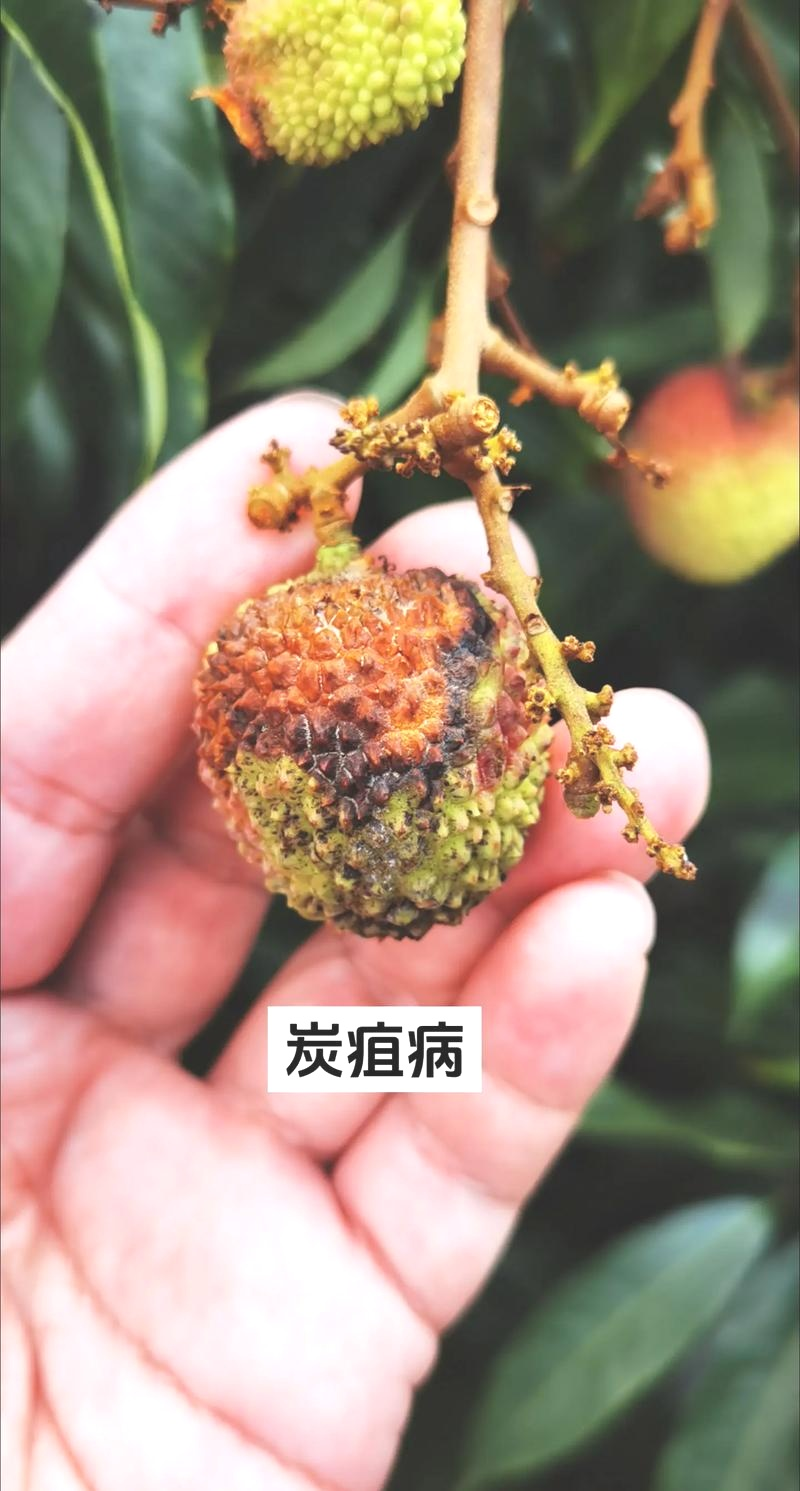Anthracnose: (190, 480, 510, 801)
